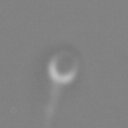normal: (46, 82, 64, 128)
